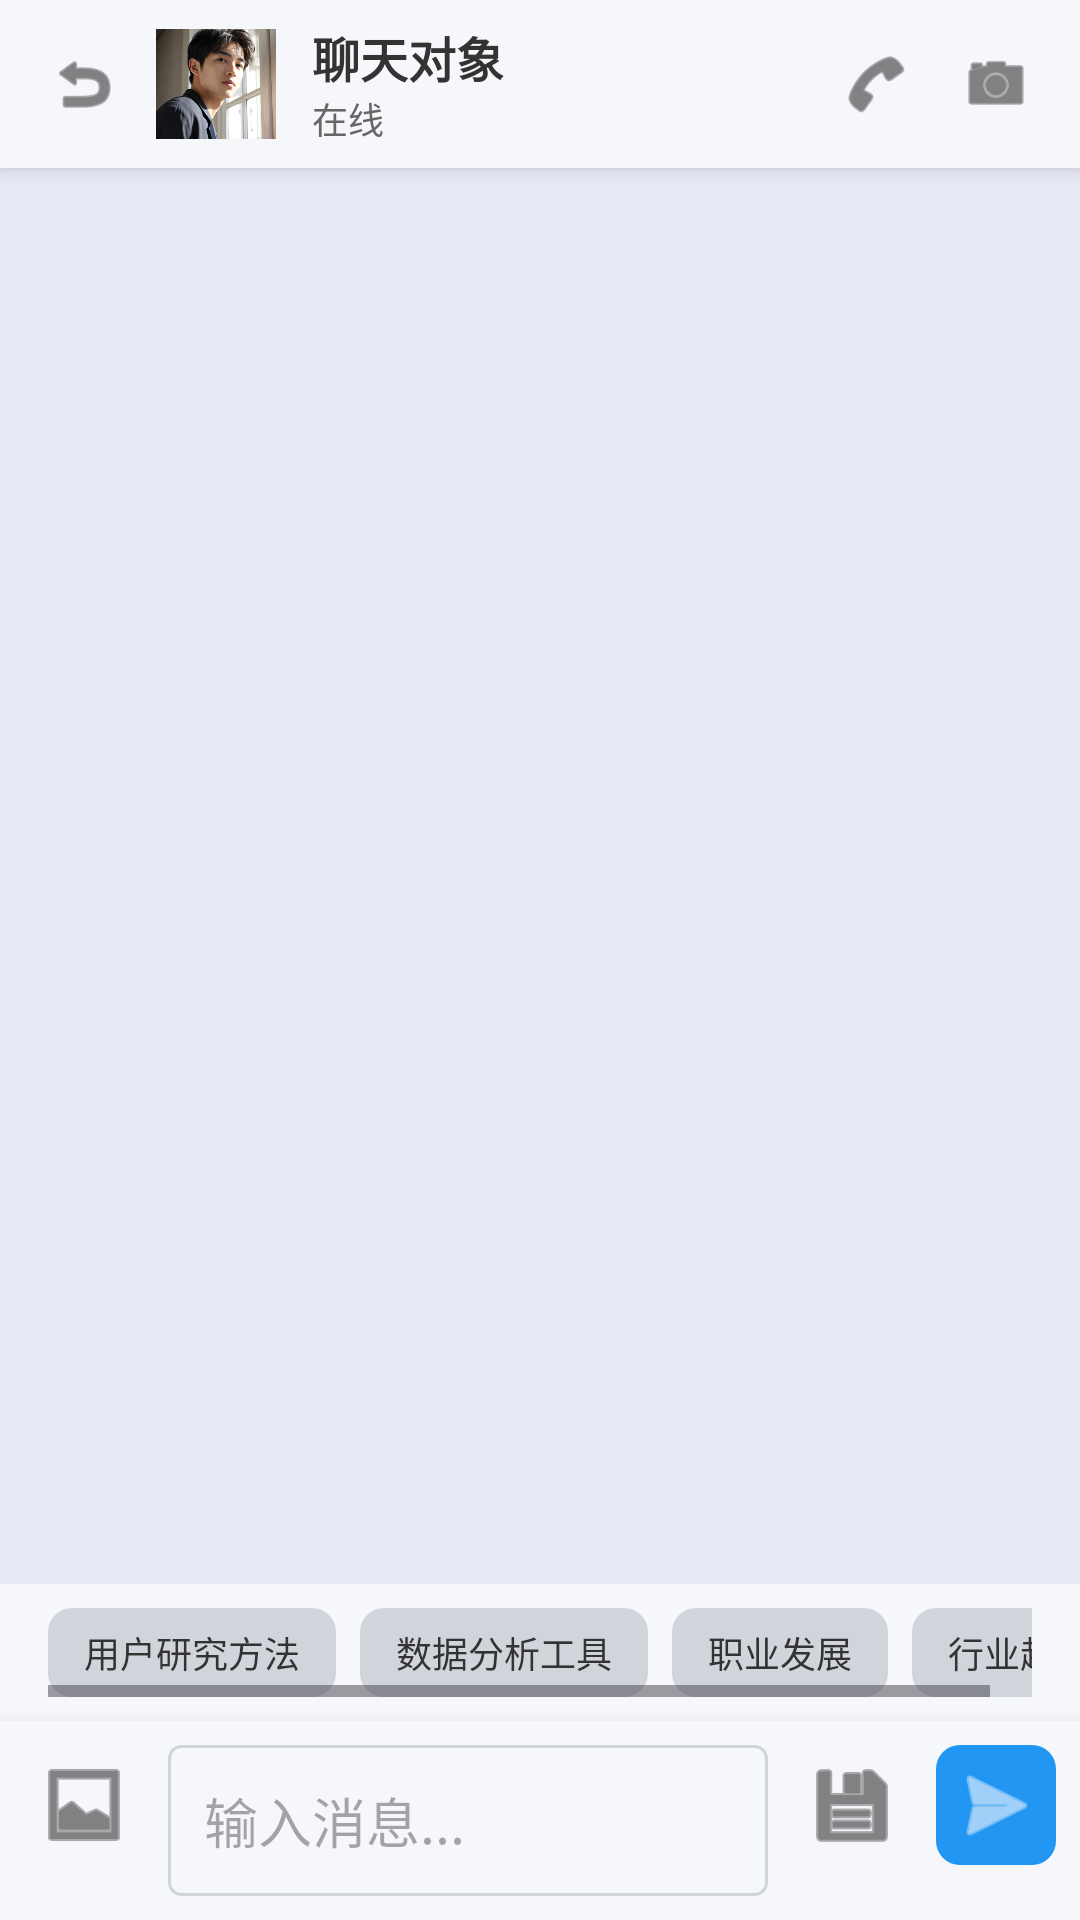

Where icons sit on this 1080w x 1920h app screen, as (x1,y1,x2,y2):
call: (848,56,905,112)
camera: (968,61,1024,105)
gallery: (48,1769,120,1841)
save: (816,1769,888,1842)
send: (936,1745,1056,1865)
touxiang: (156,29,276,139)
返回: (59,61,111,108)
